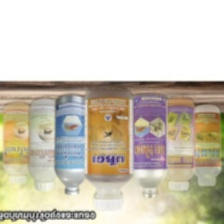insecticide: (79, 84, 136, 214), (130, 91, 169, 202), (52, 91, 91, 198), (26, 96, 65, 194), (159, 96, 197, 193), (189, 102, 223, 189), (1, 100, 35, 185)
